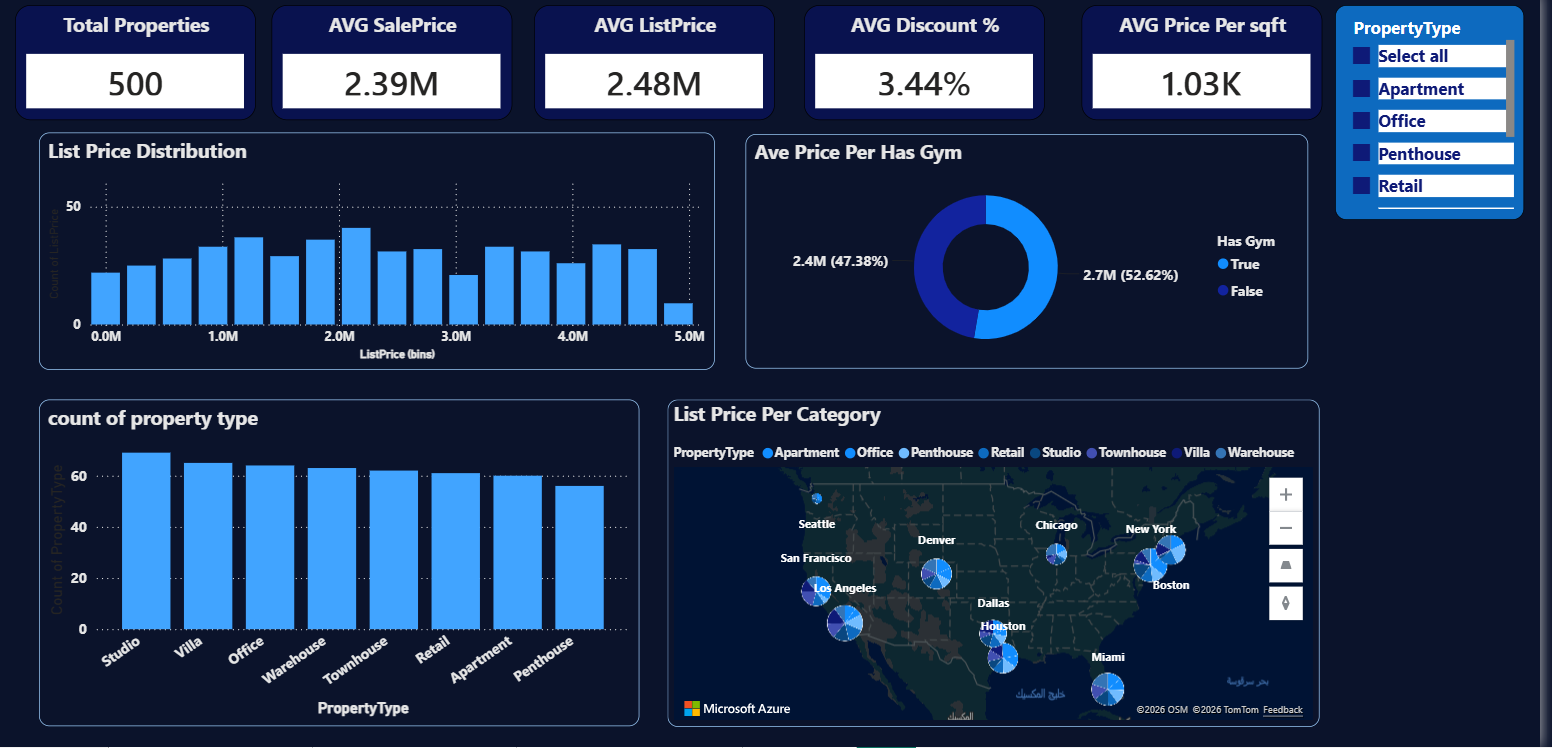

This screenshot's page, from the dashboard's own definition file:
{"tool":"powerbi","page":{"name":"Dataset Overview","canvas":[1470,720],"ordinal":1},"visuals":[{"type":"cardVisual","title":"AVG Price Per sqft","fields":{"Data":["Measure.AVG PricePer Sqft"]},"box":[1032.3,11.1,230,110],"z":0},{"type":"cardVisual","title":"AVG ListPrice","fields":{"Data":["Measure.AVG ListPrice"]},"box":[510.1,11.3,230,110],"z":1000},{"type":"cardVisual","title":"Total Properties","fields":{"Data":["Measure.Total Properties"]},"box":[14.6,11.3,230,110],"z":2000},{"type":"cardVisual","title":"AVG SalePrice","fields":{"Data":["Measure.AVG SalePrice"]},"box":[259.1,11.3,230,110],"z":3000},{"type":"azureMap","title":"List Price Per Category","fields":{"Category":["data_cleaned_befor_Encoding.City Hierarchy.City","data_cleaned_befor_Encoding.City Hierarchy.Neighborhood"],"Series":["data_cleaned_befor_Encoding.PropertyType"],"Size":["Measure.AVG ListPrice"]},"box":[638,388,622.9,312.6],"z":4000},{"type":"donutChart","title":"Ave Price Per Has Gym","fields":{"Category":["data_cleaned_befor_Encoding.HasGym","data_cleaned_befor_Encoding.PropertyType"],"Y":["Measure.AVG ListPrice"]},"box":[712.6,135.2,537.6,224.3],"z":5000},{"type":"cardVisual","title":"AVG Discount %","fields":{"Data":["Measure.AVG Discount %"]},"box":[768.3,11.1,230,110],"z":6000},{"type":"clusteredColumnChart","title":"count of property type","fields":{"Category":["data_cleaned_befor_Encoding.PropertyType"],"Y":["CountNonNull(data_cleaned_befor_Encoding.PropertyType)"]},"box":[36.7,388.3,573.3,311.7],"z":7000},{"type":"columnChart","title":"List Price Distribution","fields":{"Category":["data_cleaned_befor_Encoding.ListPrice (bins)"],"Y":["CountNonNull(data_cleaned_befor_Encoding.ListPrice)"]},"box":[36.7,133.3,645,226.7],"z":8000},{"type":"slicer","fields":{"Values":["data_cleaned_befor_Encoding.PropertyType"]},"box":[1276.4,15.7,180.9,205.2],"z":8001}]}

Visuals, with their boxes in screenshot pixels (x1, y1, x2, y2), scaled from the page's 1470x720 canvas onto the 1552x748 screenshot:
"AVG Price Per sqft" cardVisual: [x1=1090, y1=12, x2=1333, y2=126]
"AVG ListPrice" cardVisual: [x1=539, y1=12, x2=781, y2=126]
"Total Properties" cardVisual: [x1=15, y1=12, x2=258, y2=126]
"AVG SalePrice" cardVisual: [x1=274, y1=12, x2=516, y2=126]
"List Price Per Category" azureMap: [x1=674, y1=403, x2=1331, y2=728]
"Ave Price Per Has Gym" donutChart: [x1=752, y1=140, x2=1320, y2=373]
"AVG Discount %" cardVisual: [x1=811, y1=12, x2=1054, y2=126]
"count of property type" clusteredColumnChart: [x1=39, y1=403, x2=644, y2=727]
"List Price Distribution" columnChart: [x1=39, y1=138, x2=720, y2=374]
slicer - data_cleaned_befor_Encoding.PropertyType: [x1=1348, y1=16, x2=1539, y2=229]
